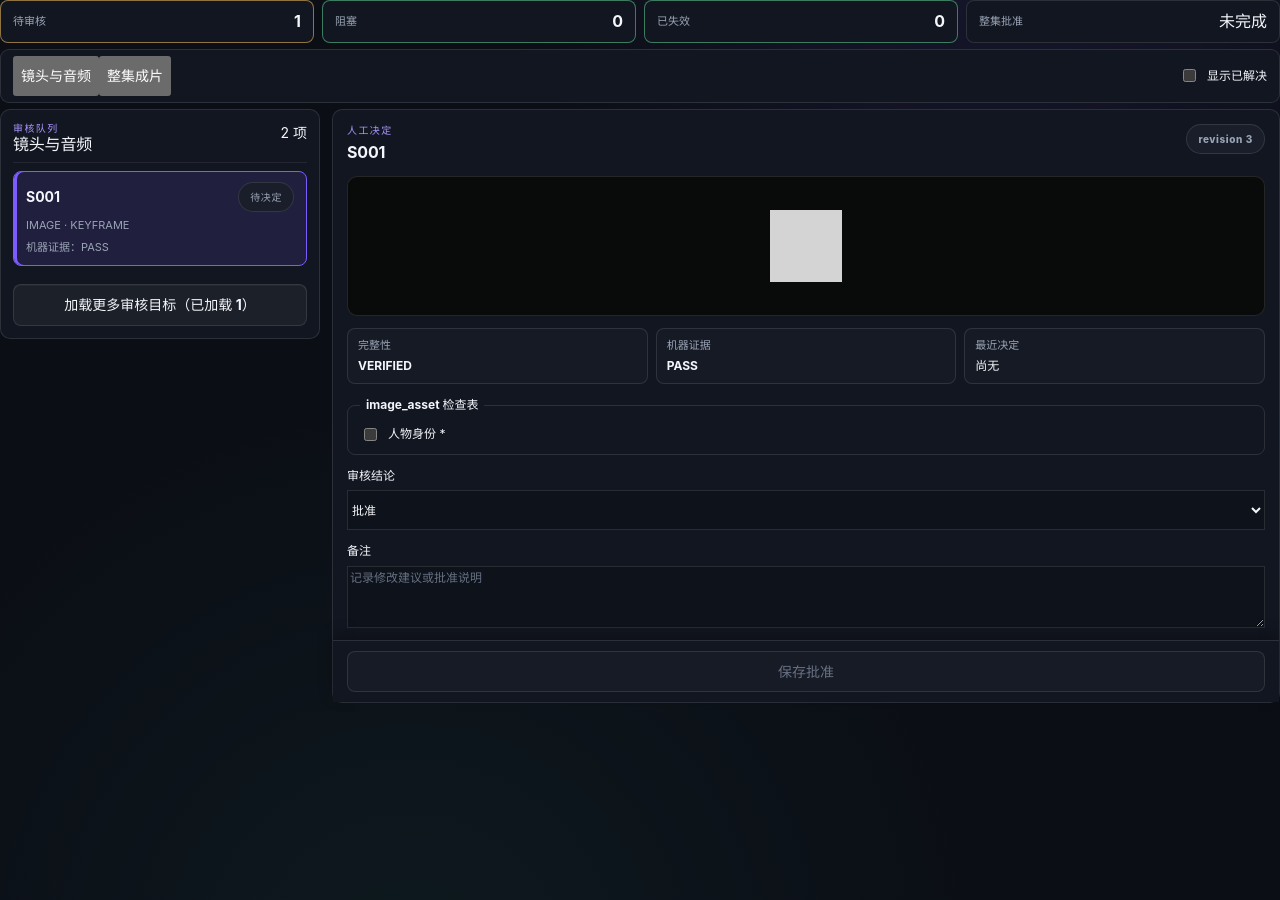
Test: EpisodeReviewWorkspace v2 › loads later review pages so targets beyond the first bounded page remain actionable
The image size is (1280, 900).
Expected: the button "S001 待决定 IMAGE · KEYFRAME 机器证据：PASS" is shown, [13,171,307,266]
Click the button "加载更多审核目标（已加载 1）" at point(160, 305), box [13,284,307,326]
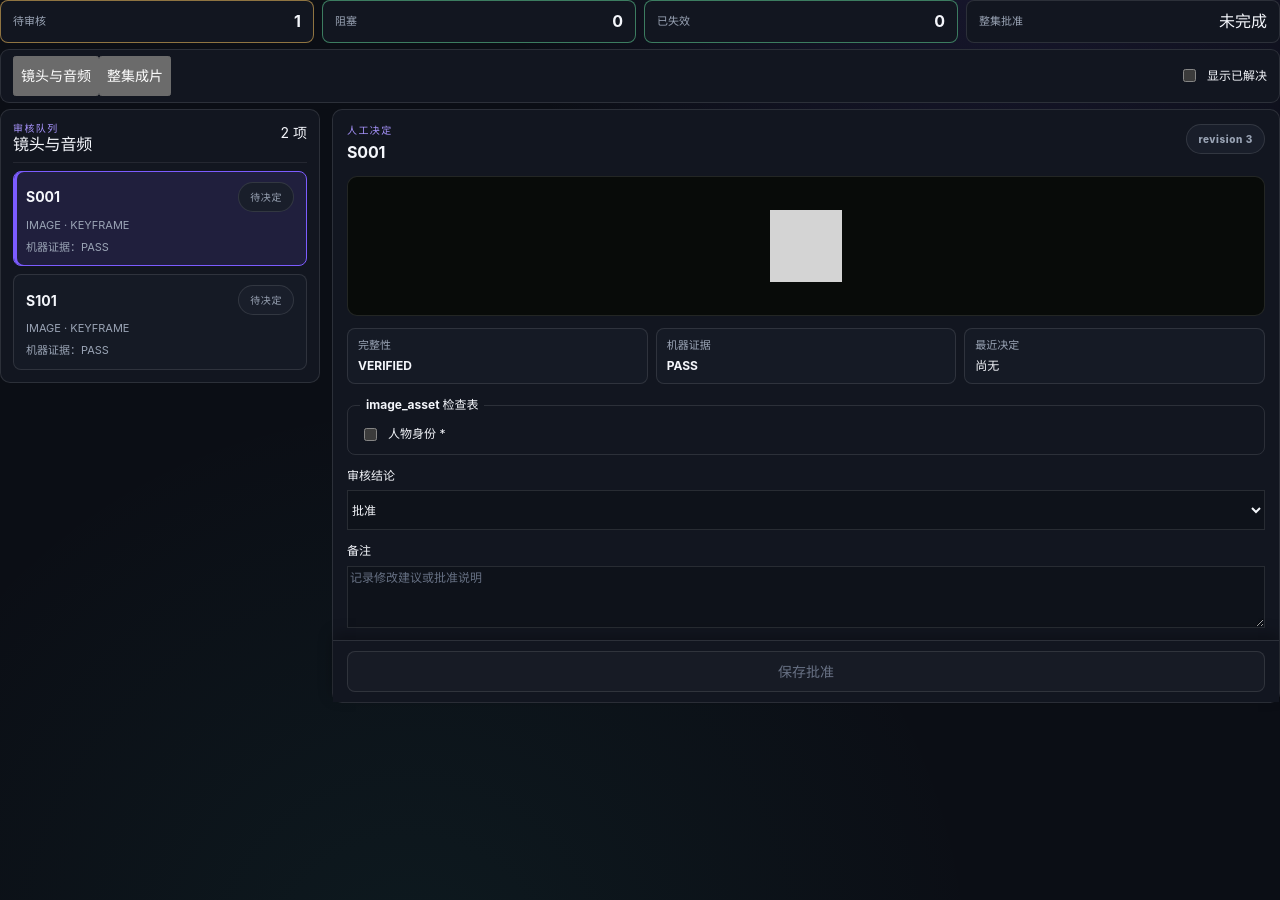
Result: the button "S101 待决定 IMAGE · KEYFRAME 机器证据：PASS" is shown at [13,274,307,370]
Result: the button "加载更多审核目标" is gone
